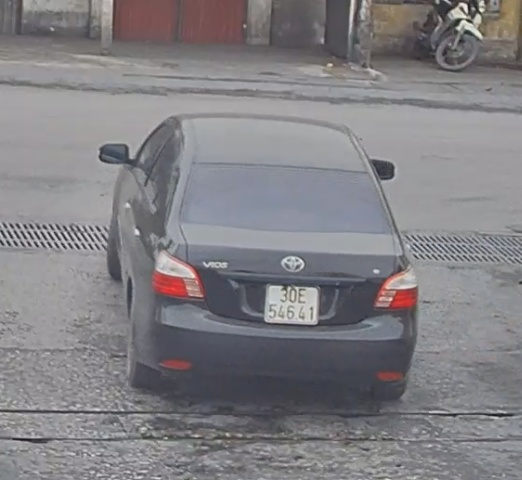vehicle plate: (257, 274, 330, 334)
